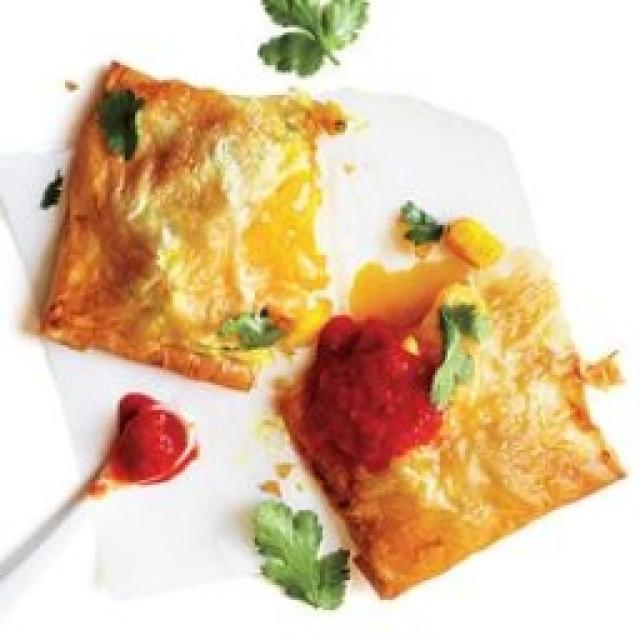Brik: (40, 67, 622, 599)
